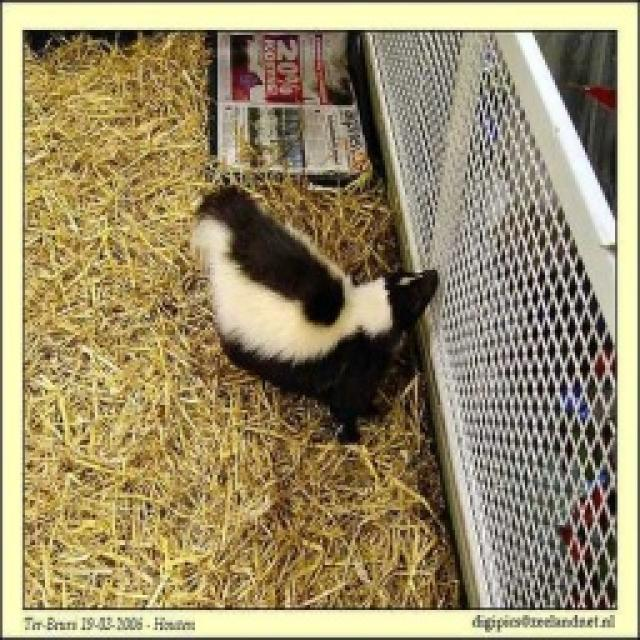Skunk: (179, 162, 453, 449)
